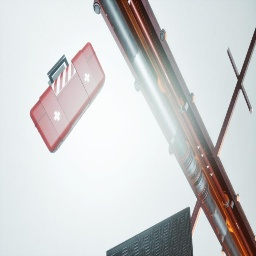FirstAidBox ,: (30, 42, 106, 152)
